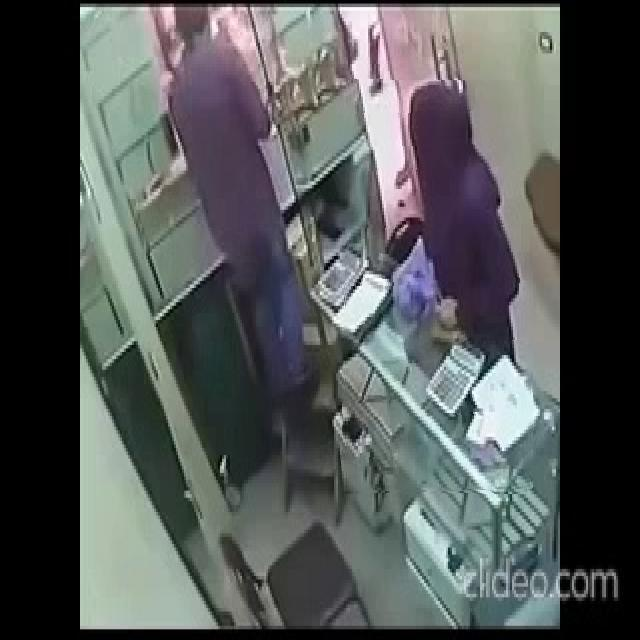Shoplifting: (343, 80, 533, 494)
